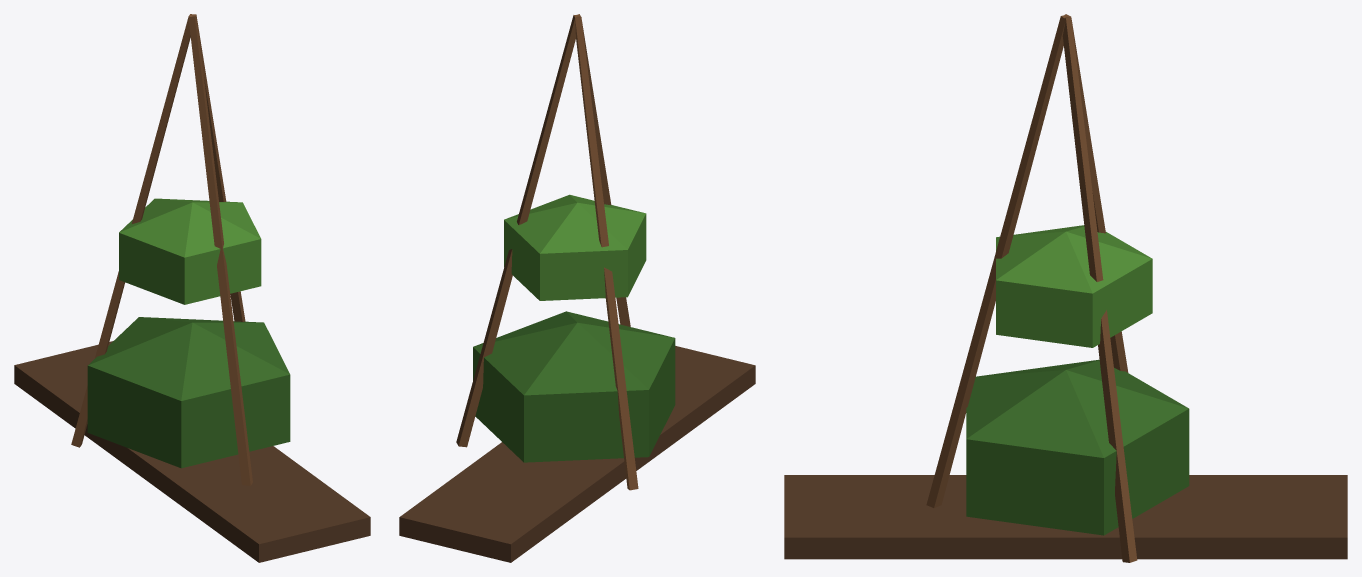
The model's file is crop_beans_2.glb.
The picture shows the model from 3 angles, left to right: view 1: azimuth 30°, elevation 25°; view 2: azimuth 150°, elevation 25°; view 3: azimuth 270°, elevation 25°; orthographic projection. The views are drawn at different scales.
Visible parts, largest first — view 1: crop_beans_2; view 2: crop_beans_2; view 3: crop_beans_2.
Part boxes in pixels (bbox=[...]): crop_beans_2: bbox=[14, 14, 370, 562]; crop_beans_2: bbox=[399, 14, 755, 562]; crop_beans_2: bbox=[784, 14, 1347, 562].
Size of the model in its own units: 0.8281 by 1.9 by 1.9.
